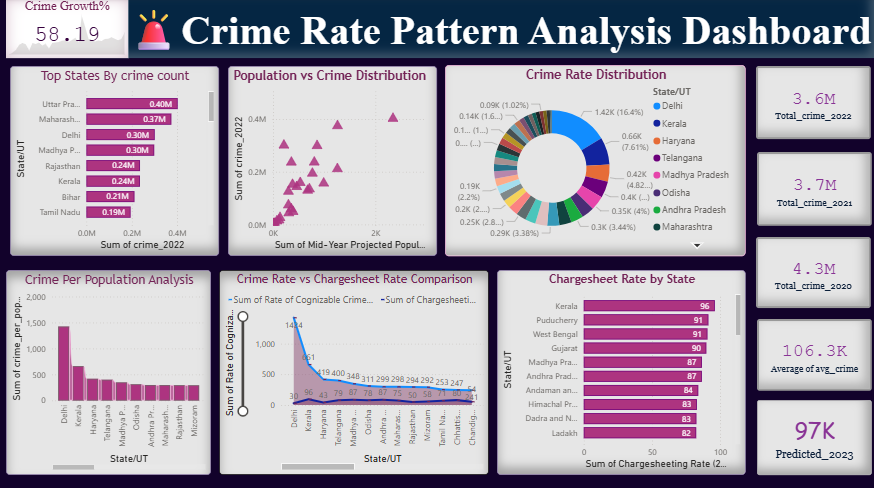

The dashboard page shown, as its layout file describes it:
{"tool":"powerbi","page":{"name":"Page 1","canvas":[1280,720],"ordinal":0},"visuals":[{"type":"textbox","box":[124.4,0,1156.1,87.8],"z":0},{"type":"kpi","title":"Crime Growth%","fields":{"Indicator":["updated_crime_rate_data.crime_growth_per%"],"TrendLine":["updated_crime_rate_data.crime_growth"]},"box":[8.8,0,178.5,87.8],"z":1000},{"type":"card","fields":{"Values":["updated_crime_rate_data.Total_crime_2022"]},"box":[1106.3,99.5,168.3,106.8],"z":2000},{"type":"card","fields":{"Values":["updated_crime_rate_data.Total_crime_2021"]},"box":[1107.8,225.4,168.3,108.3],"z":3000},{"type":"card","fields":{"Values":["updated_crime_rate_data.Total_crime_2020"]},"box":[1106.3,349.8,168.3,103.9],"z":4000},{"type":"card","fields":{"Values":["Avg(updated_crime_rate_data.avg_crime)"]},"box":[1107.8,469.8,168.3,105.4],"z":5000},{"type":"card","fields":{"Values":["updated_crime_rate_data.Predicted_2023"]},"box":[1107.8,588.3,168.3,109.8],"z":6000},{"type":"clusteredBarChart","title":"Top States By crime count","fields":{"Category":["updated_crime_rate_data.State/UT"],"Y":["Sum(updated_crime_rate_data.crime_2022)"]},"box":[14.6,99.5,305.9,278],"z":7000},{"type":"scatterChart","title":"Population vs Crime Distribution","fields":{"X":["Sum(updated_crime_rate_data.Mid-Year Projected Population (in Lakhs) (2022))"],"Y":["Sum(updated_crime_rate_data.crime_2022)"],"Category":["updated_crime_rate_data.State/UT"]},"box":[333.7,99.5,305.9,278],"z":8000},{"type":"clusteredBarChart","title":"Chargesheet Rate by State","fields":{"Category":["updated_crime_rate_data.State/UT"],"Y":["Sum(updated_crime_rate_data.Chargesheeting Rate (2022))"]},"box":[727.3,398,364.4,300],"z":9000},{"type":"donutChart","title":"Crime Rate Distribution","fields":{"Category":["updated_crime_rate_data.State/UT"],"Y":["Sum(updated_crime_rate_data.Rate of Cognizable Crimes (IPC) (2022))"]},"box":[651.2,98,440.5,279.5],"z":10000},{"type":"columnChart","title":"Crime Per Population Analysis","fields":{"Category":["updated_crime_rate_data.State/UT"],"Y":["Sum(updated_crime_rate_data.crime_per_population)"]},"box":[8.8,398,300,300],"z":11000},{"type":"lineChart","title":"Crime Rate vs Chargesheet Rate Comparison","fields":{"Category":["updated_crime_rate_data.State/UT"],"Y":["Sum(updated_crime_rate_data.Rate of Cognizable Crimes (IPC) (2022))","Sum(updated_crime_rate_data.Chargesheeting Rate (2022))"]},"box":[320.5,398,395.1,300],"z":12000}]}

Visuals, with their boxes in screenshot pixels (x1, y1, x2, y2), scaled from the page's 1280x720 canvas onto the 874x488 screenshot:
textbox: region(85, 0, 873, 60)
"Crime Growth%" kpi: region(6, 0, 128, 60)
card - updated_crime_rate_data.Total_crime_2022: region(755, 67, 870, 140)
card - updated_crime_rate_data.Total_crime_2021: region(756, 153, 871, 226)
card - updated_crime_rate_data.Total_crime_2020: region(755, 237, 870, 308)
card - Avg(updated_crime_rate_data.avg_crime): region(756, 318, 871, 390)
card - updated_crime_rate_data.Predicted_2023: region(756, 399, 871, 473)
"Top States By crime count" clusteredBarChart: region(10, 67, 219, 256)
"Population vs Crime Distribution" scatterChart: region(228, 67, 437, 256)
"Chargesheet Rate by State" clusteredBarChart: region(497, 270, 745, 473)
"Crime Rate Distribution" donutChart: region(445, 66, 745, 256)
"Crime Per Population Analysis" columnChart: region(6, 270, 211, 473)
"Crime Rate vs Chargesheet Rate Comparison" lineChart: region(219, 270, 489, 473)
